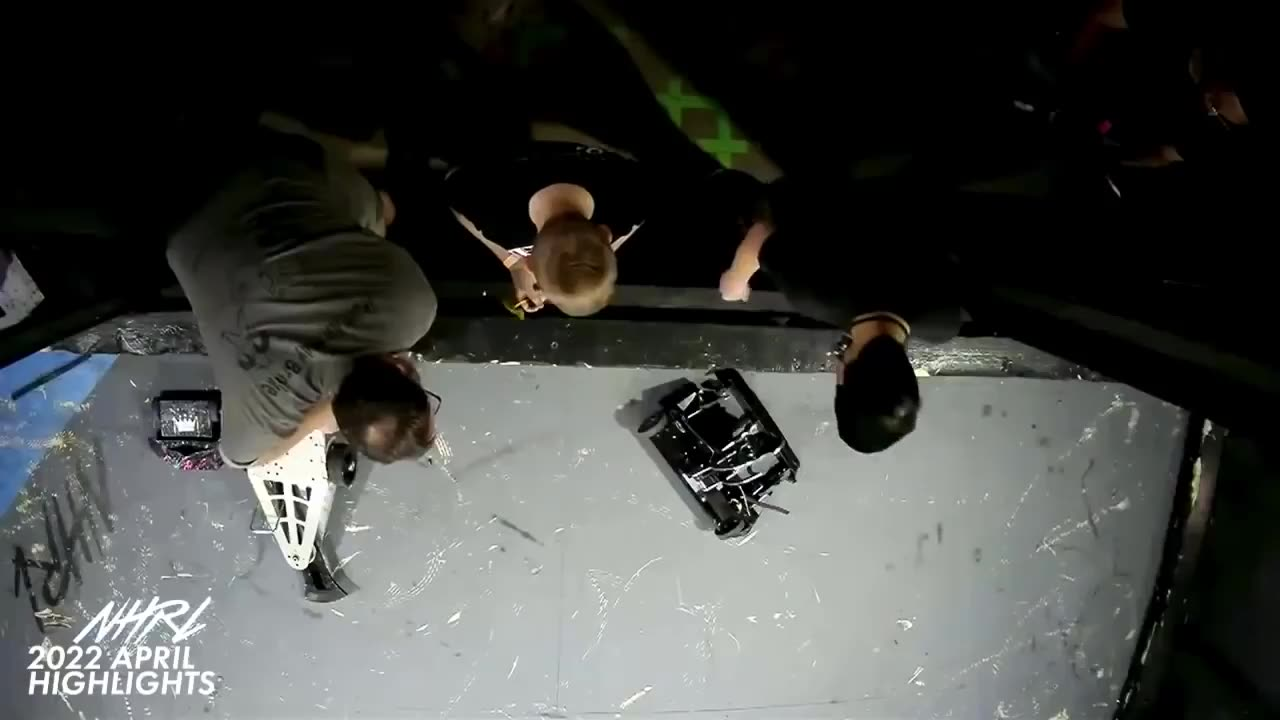combatbot: (638, 368, 800, 545), (246, 429, 359, 601)
